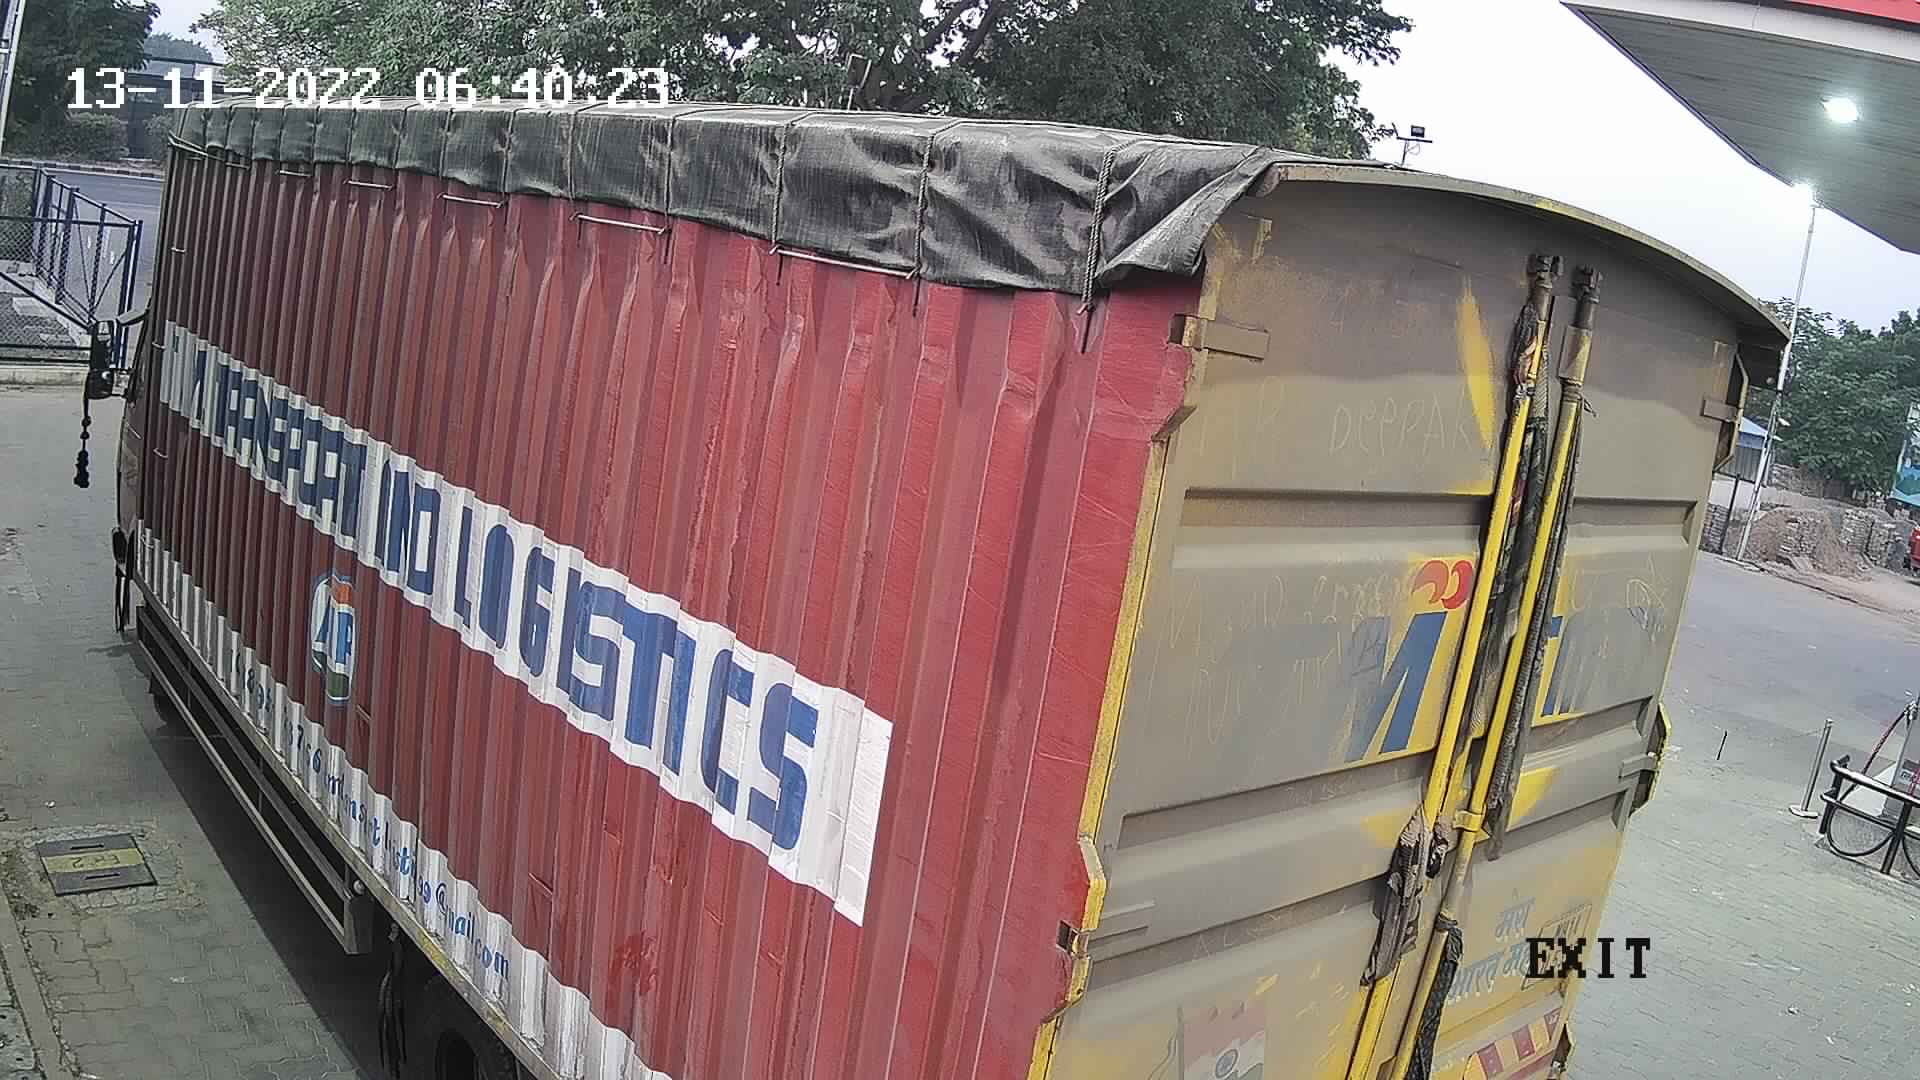HMV: (69, 78, 1797, 1077)
